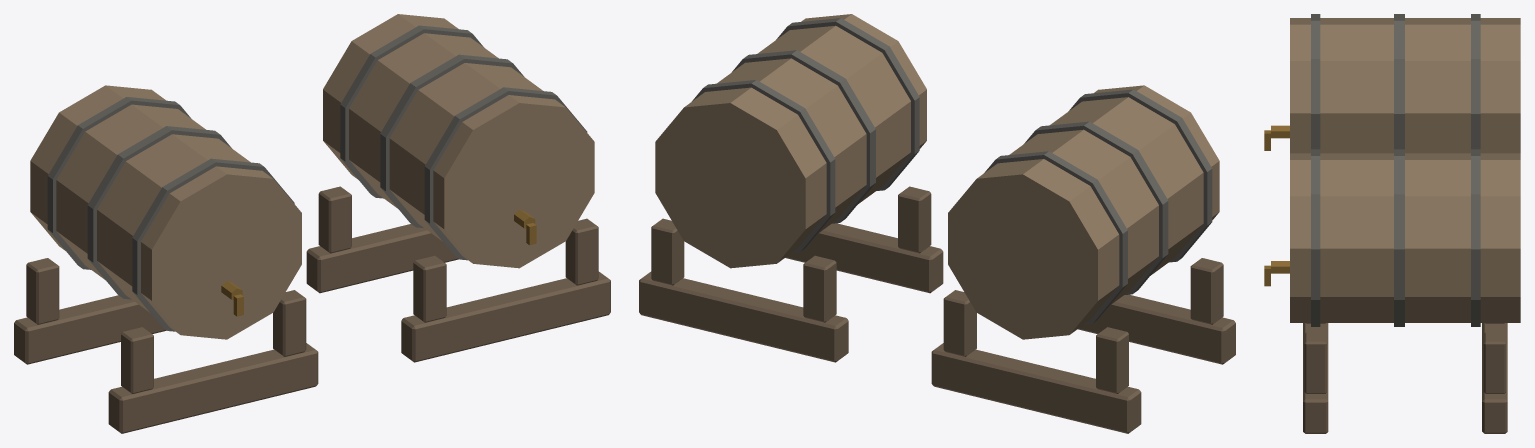
File: keg_rack.glb
The picture shows the model from 3 angles, left to right: view 1: azimuth 30°, elevation 25°; view 2: azimuth 150°, elevation 25°; view 3: azimuth 270°, elevation 25°; orthographic projection. The views are drawn at different scales.
Parts seen in each view (by area): view 1: Keg_Rack; view 2: Keg_Rack; view 3: Keg_Rack.
Part boxes in pixels (x1,y1,x2,y2): Keg_Rack: (14,14,610,433); Keg_Rack: (639,14,1235,433); Keg_Rack: (1264,14,1520,433).
Size of the model in its own units: 1.68 by 0.803 by 0.8.
